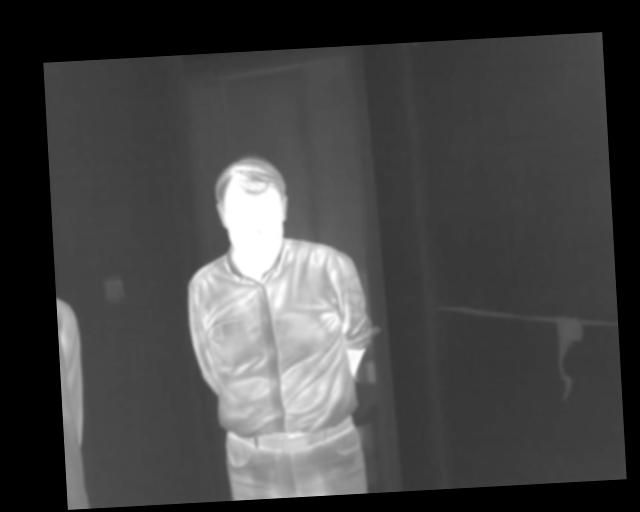face: (212, 152, 292, 269)
